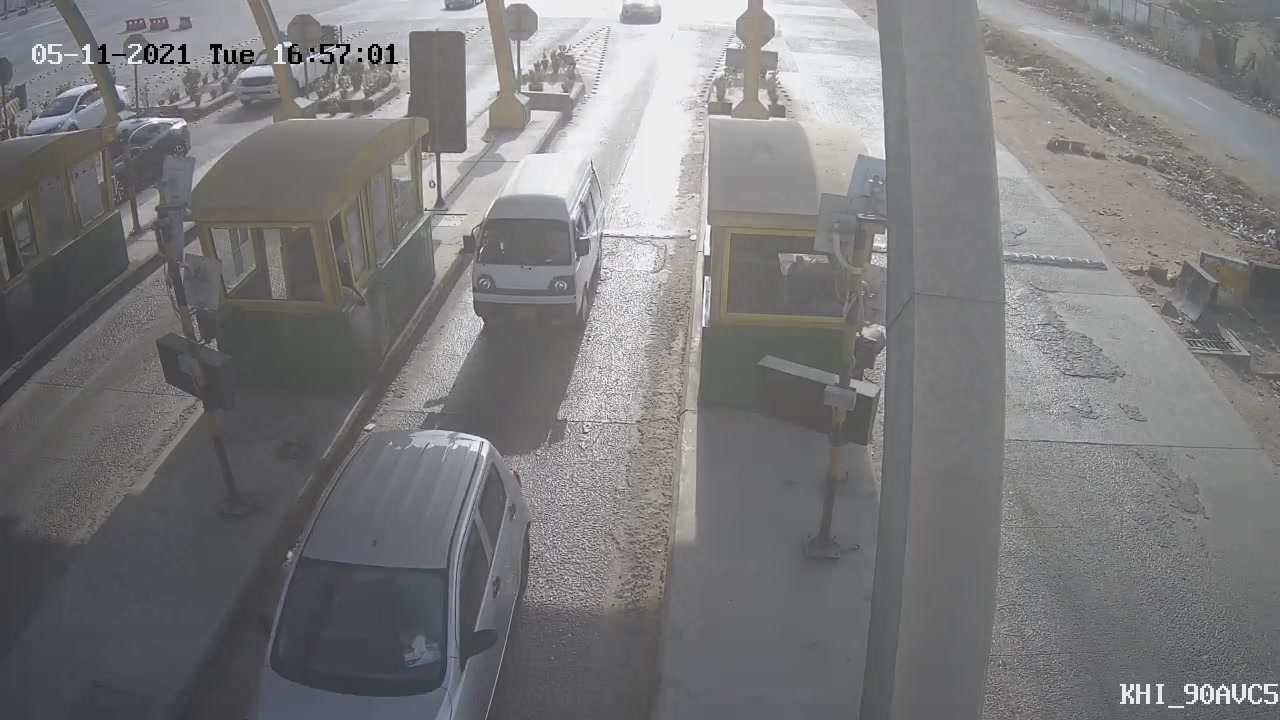F1: (440, 135, 629, 362)
